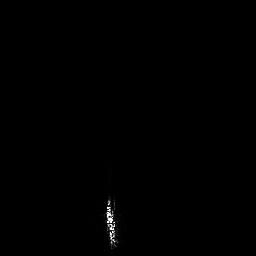ship: (105, 197, 118, 251)
